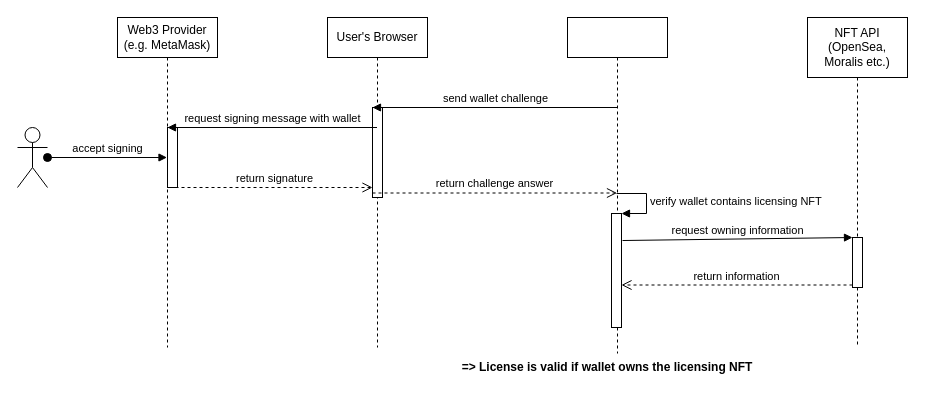
The diagram is 925 pixels wide and 397 high, and some of its shapes have lost their labels. The centre of each missing label's shape, as x and y in pixels:
"User" goes at point 32,157.
"Your server" goes at point 617,185.
